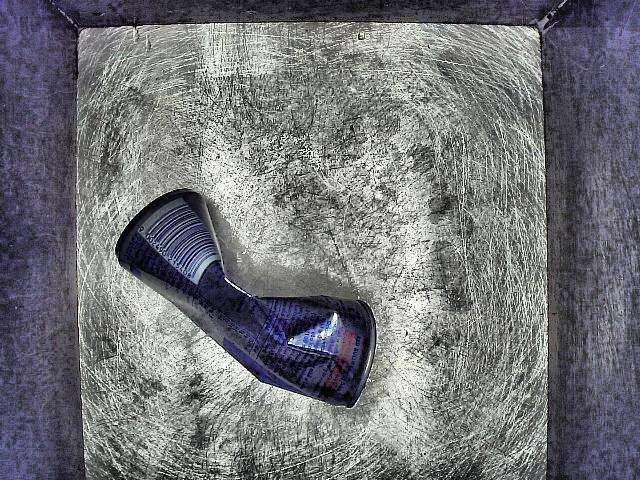Bottles: (104, 185, 429, 424)
